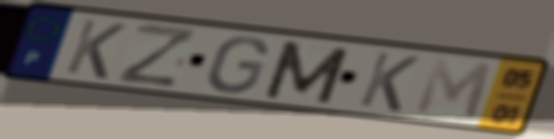G: (204, 35, 272, 96)
K: (354, 49, 424, 115), (61, 16, 130, 82)
M: (259, 38, 354, 107), (411, 55, 497, 124)
Z: (113, 21, 201, 90)
